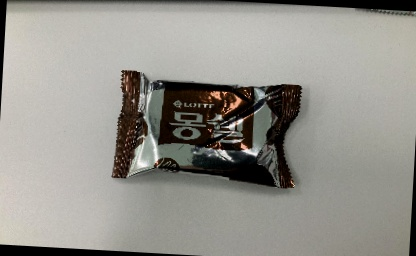mon: (109, 66, 305, 192)
